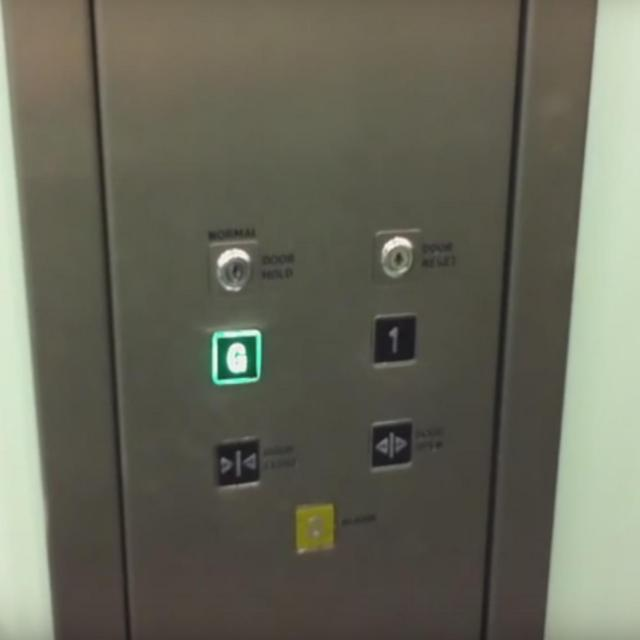1: (369, 309, 422, 371)
G: (209, 326, 264, 388)
alarm: (291, 498, 337, 559)
bt_keyhole: (204, 237, 263, 302), (370, 224, 425, 286)
close: (210, 432, 263, 494)
open: (364, 414, 418, 476)
